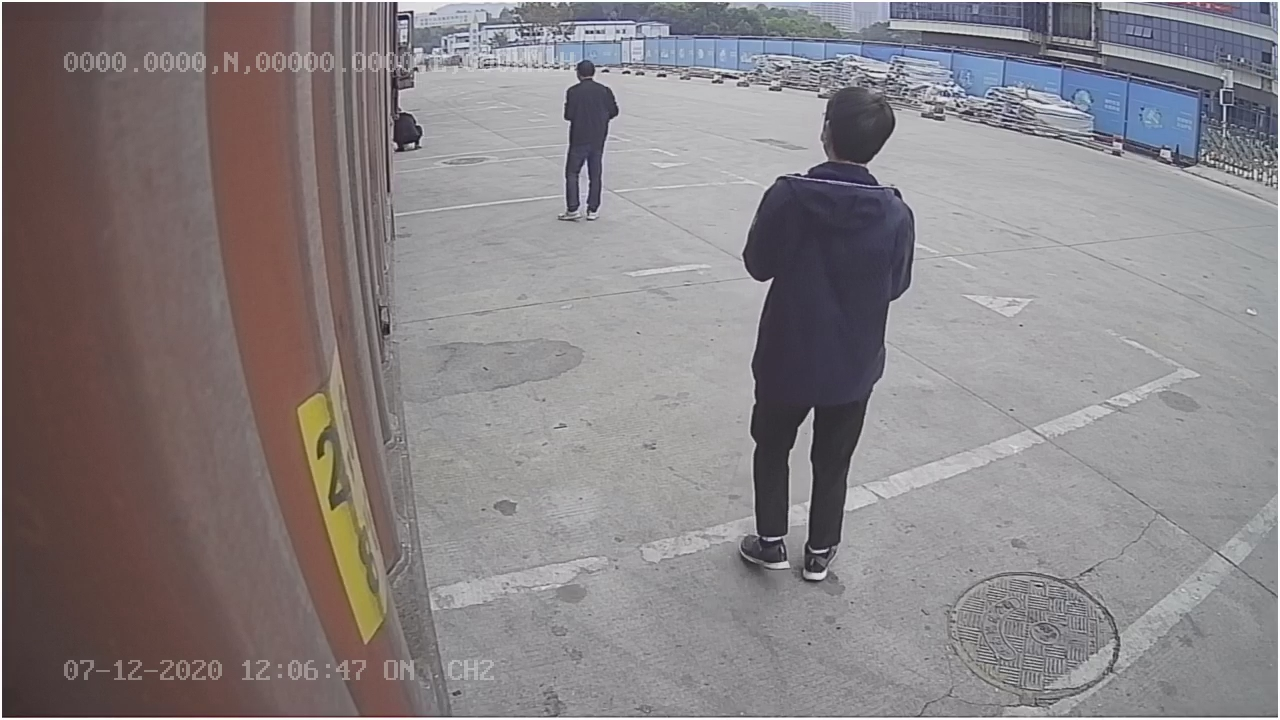person: (741, 80, 913, 591)
